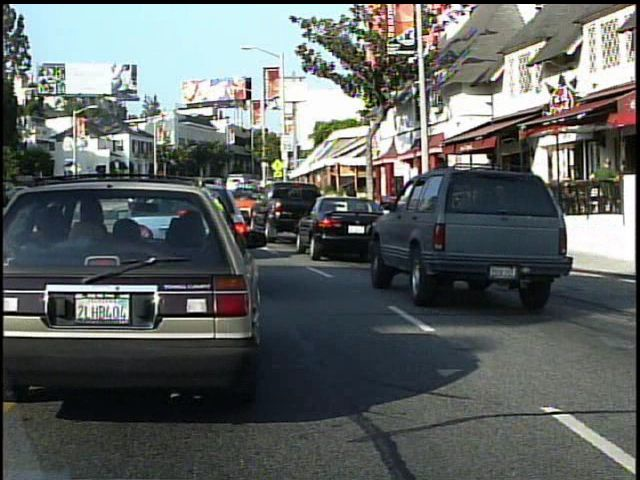person: (588, 151, 623, 234)
